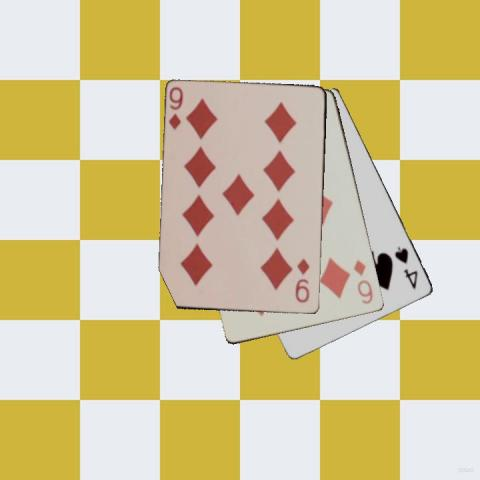4s: (392, 243, 420, 291)
6d: (350, 257, 374, 306)
9d: (294, 255, 312, 304), (166, 84, 184, 131)
